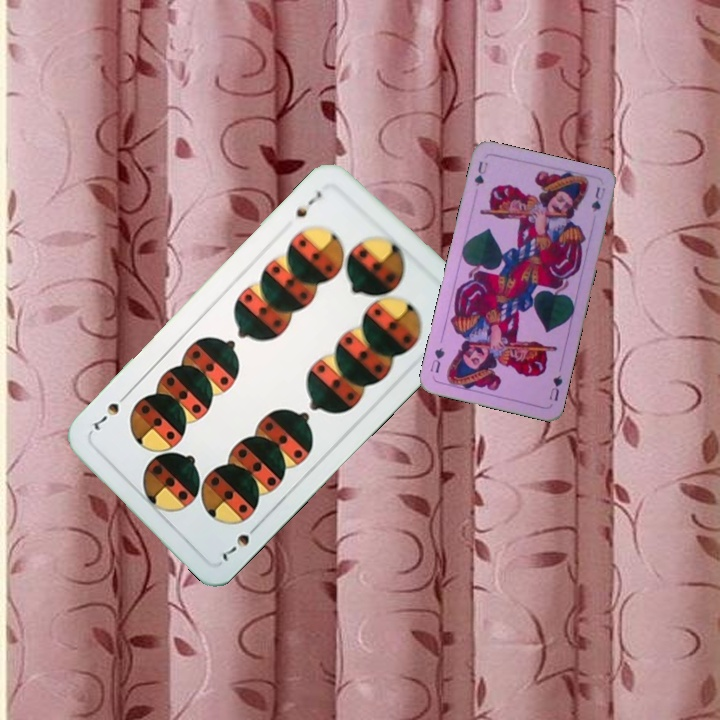GU: (470, 157, 491, 189), (545, 371, 565, 404)
S7: (218, 518, 263, 564), (290, 186, 325, 222)
